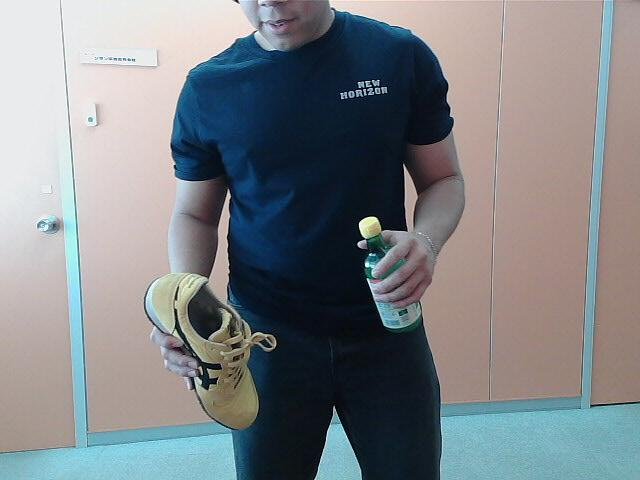Lemon_sapporo: (349, 216, 425, 331)
Shoes: (140, 265, 264, 437)
